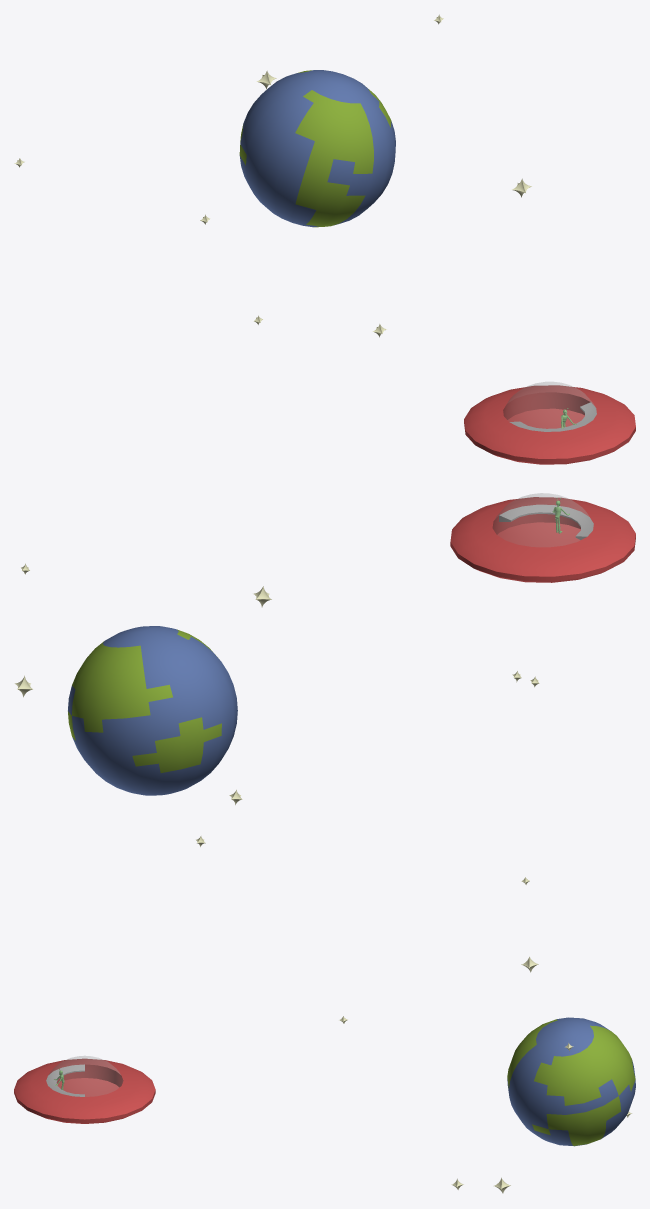
Rendered from Spaceship.fbx.
3 views of the same model, one above another, from view 1: azimuth 30°, elevation 25°; view 2: azimuth 150°, elevation 25°; view 3: azimuth 270°, elevation 25° (orthographic). The views are drawn at different scales.
Parts seen in each view (by area): view 1: Space_Scene1; view 2: Space_Scene1; view 3: Space_Scene1.
Boxes of the visible parts, x1,y1,x2,y2 form: Space_Scene1: (14, 14, 635, 464); Space_Scene1: (14, 493, 635, 846); Space_Scene1: (14, 877, 635, 1193).
Size of the model in its own units: 69.44 by 33.4 by 90.69.
